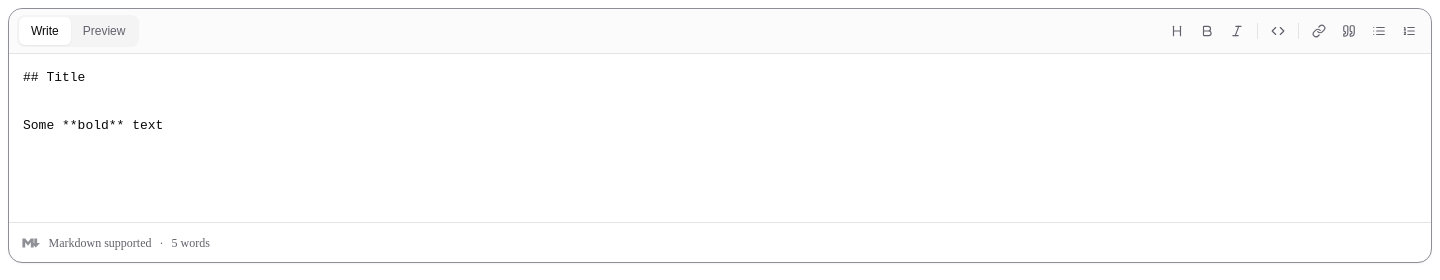
Test case: MarkdownEditor › switches to a rendered preview
Expected: the element named "Formatting" is shown, [1163,17,1423,45]
Click the tab "Preview".
click(104, 31)  # box [71,17,138,45]
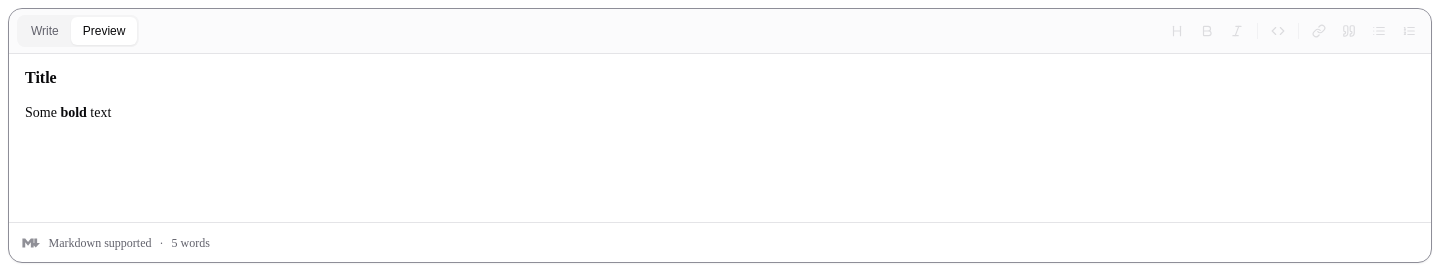
Now the heading "Title" is shown, box [25,69,57,86]
Now the button named "Bold" is disabled, box [1193,17,1221,45]
